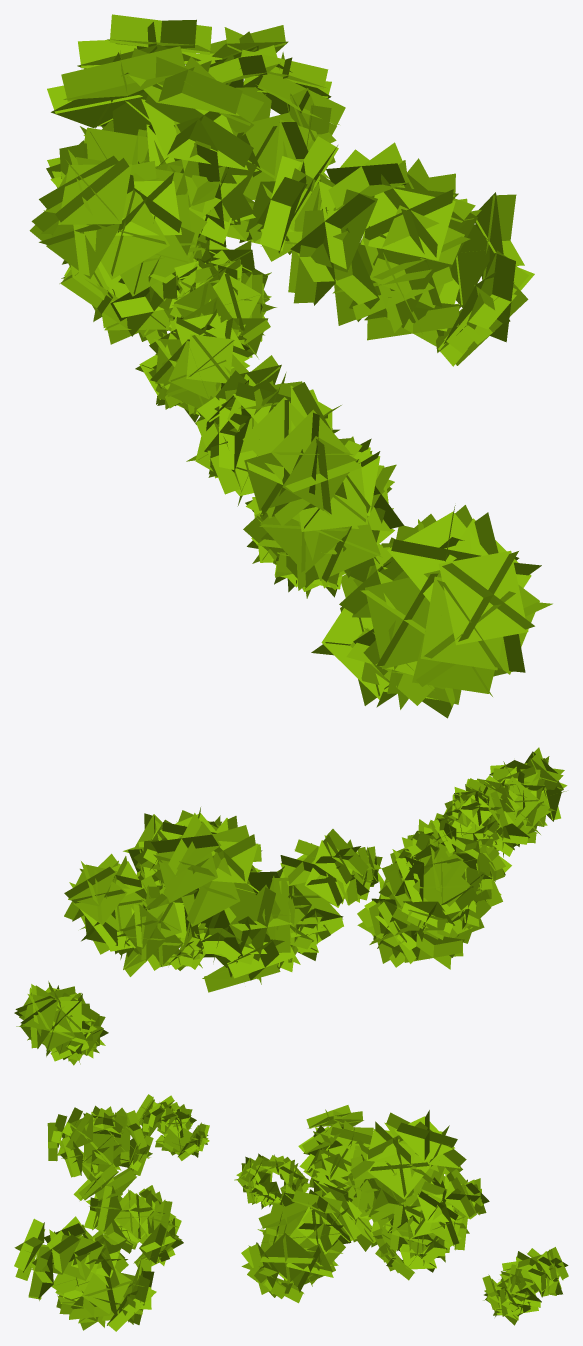
File: SM_TreeLeaves_Final.fbx
3 views of the same model, one above another, from view 1: azimuth 30°, elevation 25°; view 2: azimuth 150°, elevation 25°; view 3: azimuth 270°, elevation 25° (orthographic). The views are drawn at different scales.
Parts seen in each view (by area): view 1: Editable_Smaller_Leaves45; view 2: Editable_Smaller_Leaves45; view 3: Editable_Smaller_Leaves45.
Part boxes in pixels (x1,y1,x2,y2): Editable_Smaller_Leaves45: (29, 14, 552, 718); Editable_Smaller_Leaves45: (14, 747, 567, 1065); Editable_Smaller_Leaves45: (14, 1094, 568, 1331).
Bounding box in the file's own units: 4754 × 4138 × 9261.
